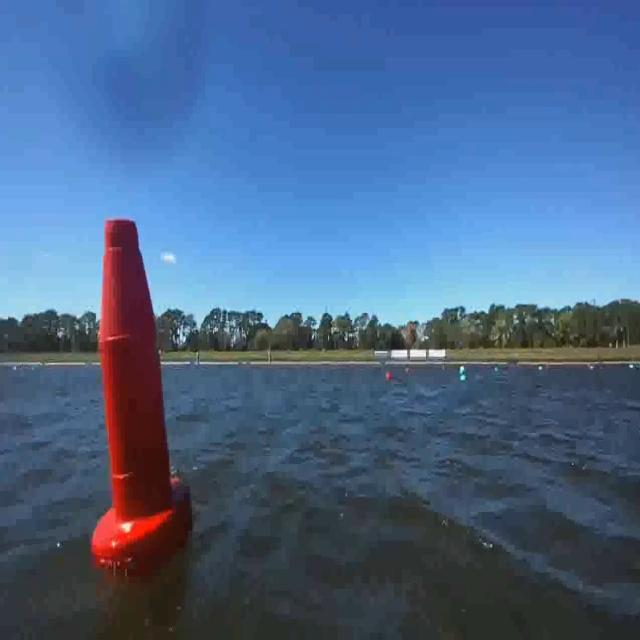green-buoy: (458, 370, 468, 384)
red-buoy: (385, 366, 393, 383)
red-column-buoy: (95, 213, 193, 566)
